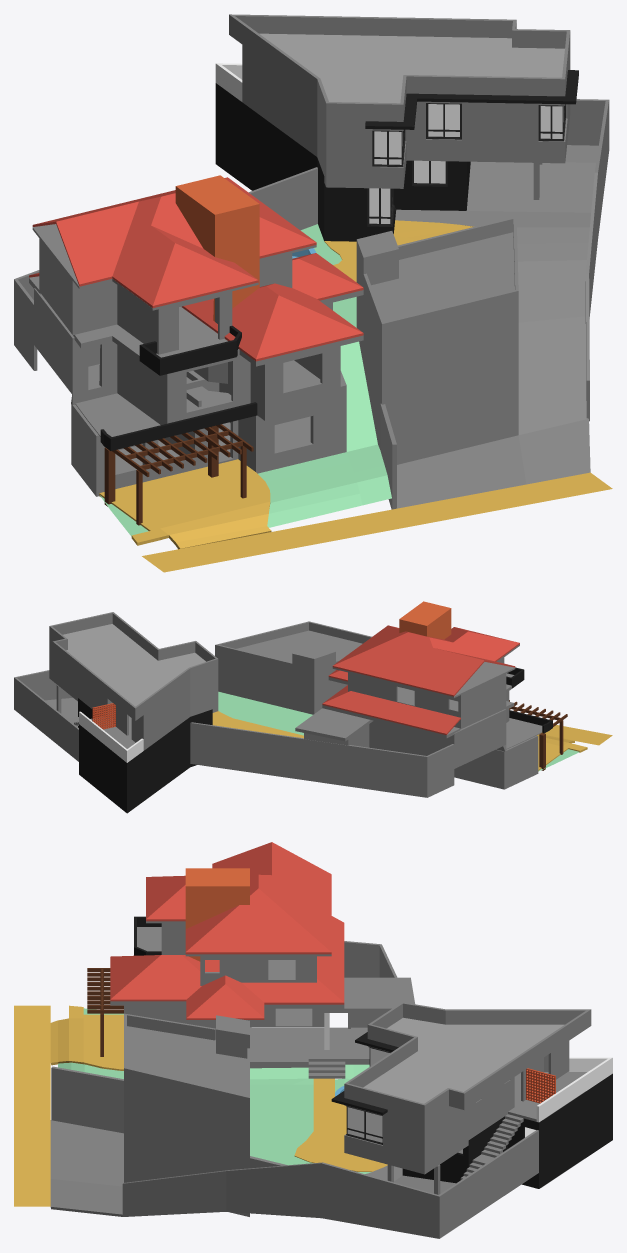
The picture shows the model from 3 angles, top to bottom: view 1: azimuth 30°, elevation 25°; view 2: azimuth 150°, elevation 25°; view 3: azimuth 270°, elevation 25°; orthographic projection. The views are drawn at different scales.
Visible parts, largest first — view 1: Plane.001, Plane.008, Plane.004, Basic Roof Generic - 10mm [1588863], parede.terreo, Plane.007, Plane.006, parede, grama, calcada, mosaico, parede.inferior (+24 smaller); view 2: Plane.013, Plane.008, Basic Roof Generic - 10mm [1588863], parede, Plane.006, Plane.004, Plane.007, parede.terreo, parede.superior, Basic Roof Generic - 10mm [1589679], parede.inferior, piso.superior (+14 smaller); view 3: Plane.013, Plane.008, Basic Roof Generic - 10mm [1588863], Plane.007, Plane.006, Plane.004, calcada, Plane.001, parede, Plane.017, Basic Roof Generic - 10mm [1589679], Plane.011 (+19 smaller).
Boxes of the visible parts, <box> form: Plane.001: <box>395,145,598,508</box>; Plane.008: <box>356,216,518,464</box>; Plane.004: <box>242,45,570,188</box>; Basic Roof Generic - 10mm [1588863]: <box>32,177,316,307</box>; parede.terreo: <box>34,288,340,424</box>; Plane.007: <box>229,14,570,124</box>; Plane.006: <box>259,33,564,103</box>; parede: <box>215,83,470,241</box>; grama: <box>100,341,391,536</box>; calcada: <box>142,472,612,572</box>; mosaico: <box>99,459,271,549</box>; parede.inferior: <box>71,371,346,496</box>; Plane.013: <box>14,670,454,797</box>; Plane.008: <box>215,621,371,714</box>; Basic Roof Generic - 10mm [1588863]: <box>332,625,519,696</box>; parede: <box>78,698,212,813</box>; Plane.006: <box>62,624,205,706</box>; Plane.004: <box>49,639,218,750</box>; Plane.007: <box>49,612,218,720</box>; parede.terreo: <box>304,691,509,768</box>; parede.superior: <box>348,657,506,728</box>; Basic Roof Generic - 10mm [1589679]: <box>322,669,460,735</box>; parede.inferior: <box>454,735,538,789</box>; piso.superior: <box>295,673,514,741</box>; Plane.013: <box>122,941,538,1238</box>; Plane.008: <box>124,1013,249,1216</box>; Basic Roof Generic - 10mm [1588863]: <box>146,842,331,954</box>; Plane.007: <box>344,1002,591,1121</box>; Plane.006: <box>363,1017,564,1103</box>; Plane.004: <box>344,1041,569,1174</box>; calcada: <box>14,1005,50,1206</box>; Plane.001: <box>50,1120,455,1216</box>; parede: <box>402,1073,612,1188</box>; Plane.017: <box>250,1064,371,1173</box>; Basic Roof Generic - 10mm [1589679]: <box>186,916,344,1019</box>; Plane.011: <box>127,1026,247,1095</box>.
Bounding box in the file's own units: 36.35 × 13.42 × 32.62.
